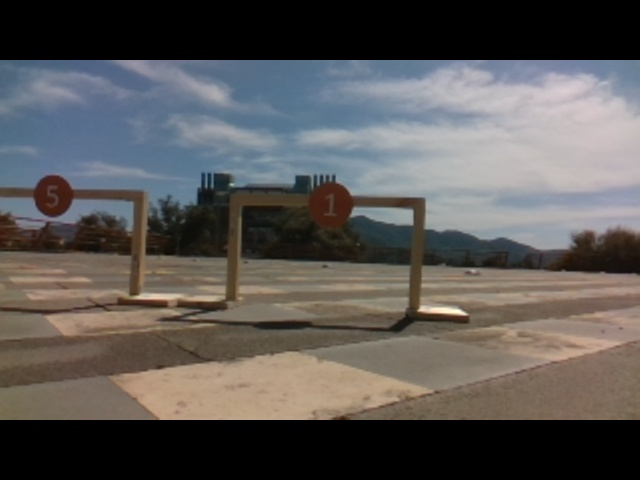checkpoint_foot: (407, 302, 471, 322), (116, 288, 178, 308), (180, 291, 240, 309)
checkpoint_side: (405, 192, 427, 310), (130, 186, 150, 295), (226, 189, 245, 300)
checkpoint_signal: (227, 189, 431, 210), (1, 185, 151, 205)
five: (32, 173, 75, 217)
one: (307, 179, 355, 228)
